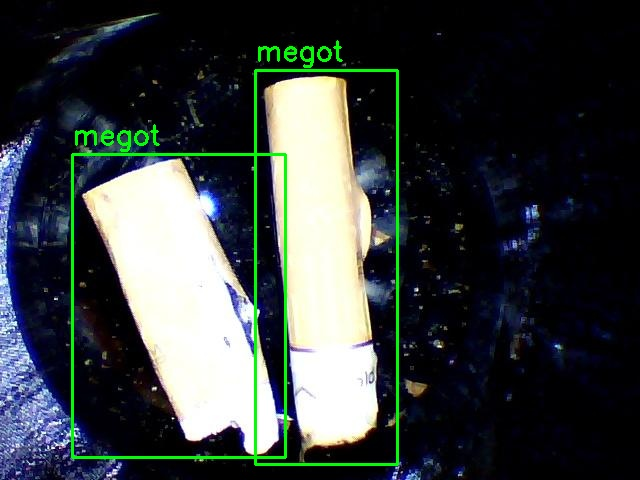megot: (72, 154, 285, 457), (255, 70, 397, 464)
